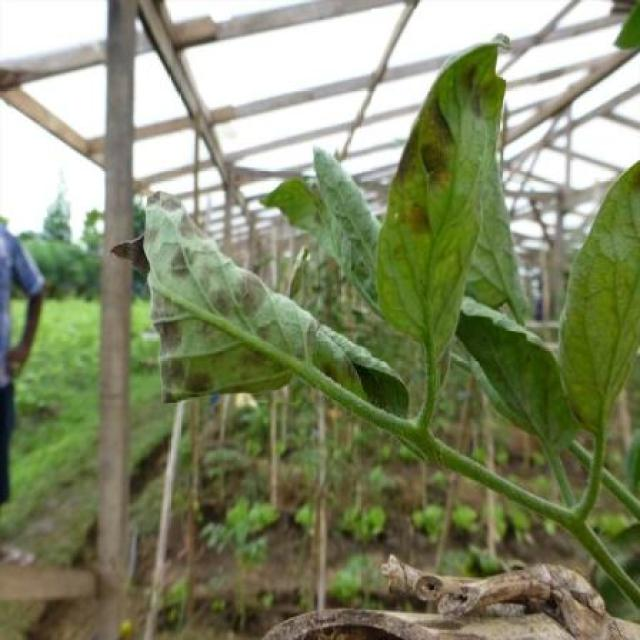Leaf Mold: (372, 9, 504, 362), (142, 191, 318, 403)
